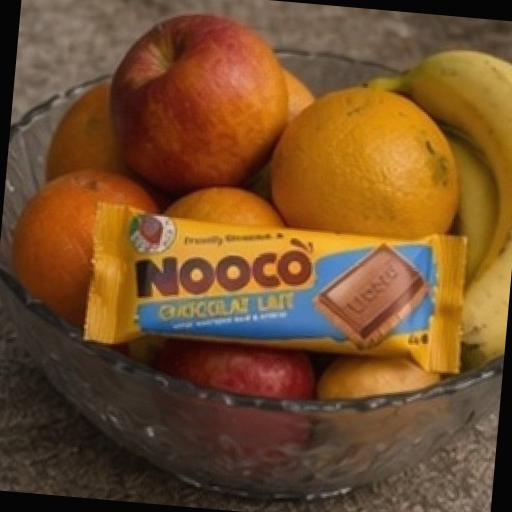biscuit-detection: (46, 154, 496, 408)
